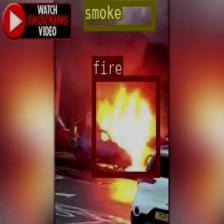fire: (91, 74, 159, 176)
smoke: (83, 0, 154, 30)
